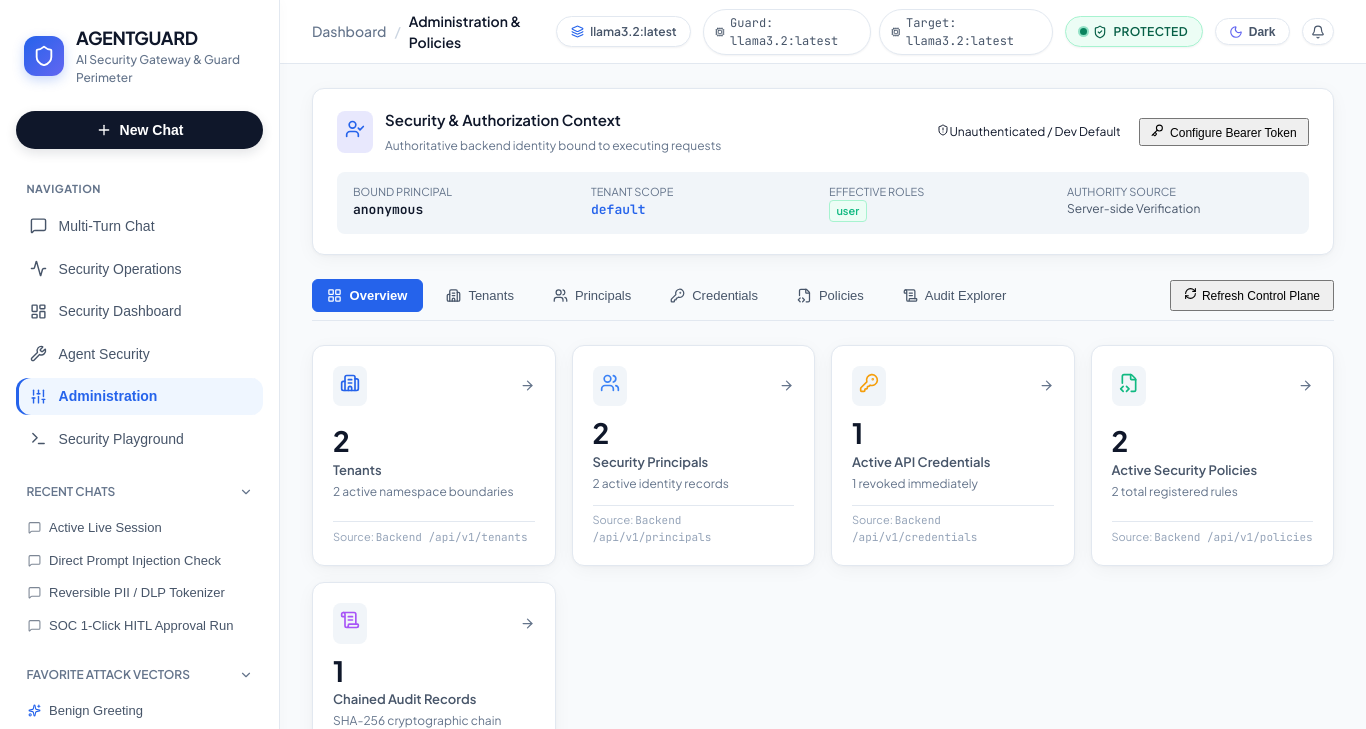
Test case: AgentGuard Frontend v0.5 — Administration & Audit Suite › 4. Principal management renders real principals with tenant binding
Expected: the heading "Security & Authorization Context" is shown, [385,110,621,129]
Step 1. Click the tab "Principals" → [592, 295], box [537,279,647,312]
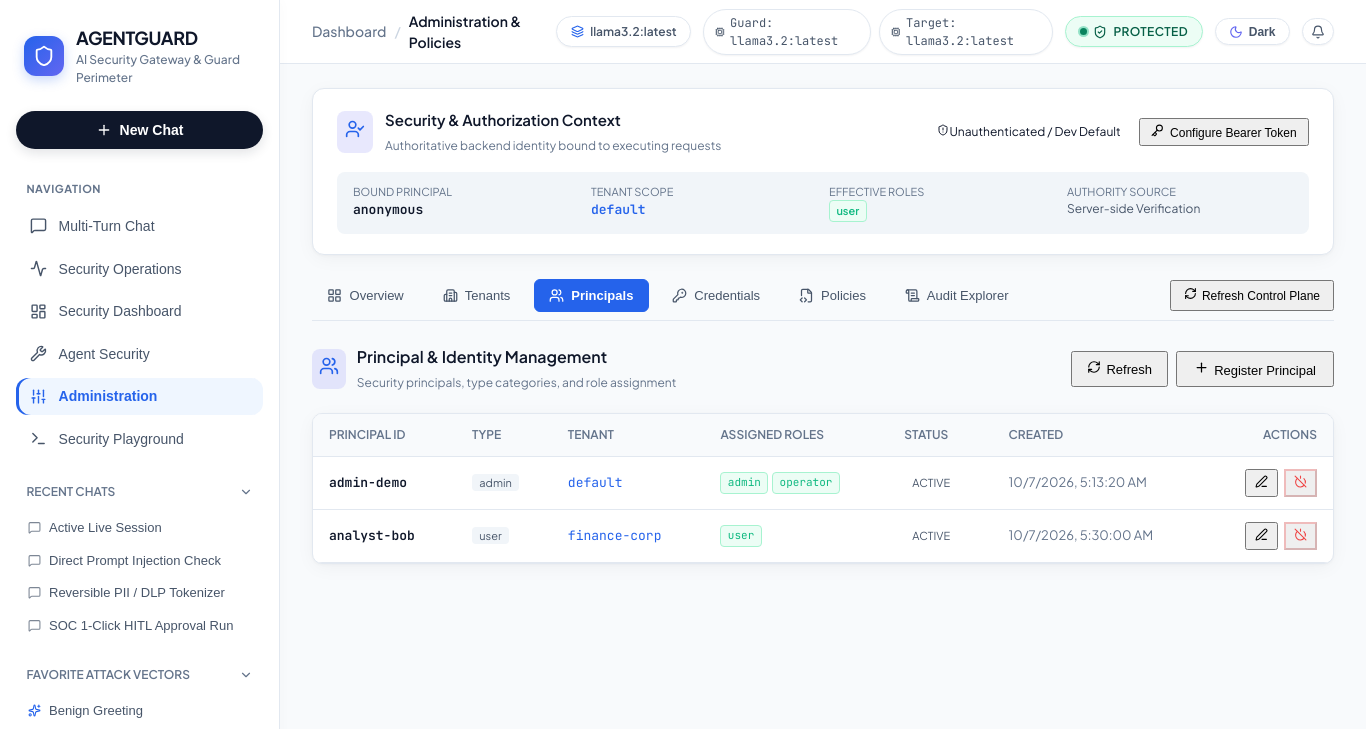
Expected: the text "admin-demo" is shown, [329,474,407,491]
Expected: the text "analyst-bob" is shown, [329,527,415,544]
